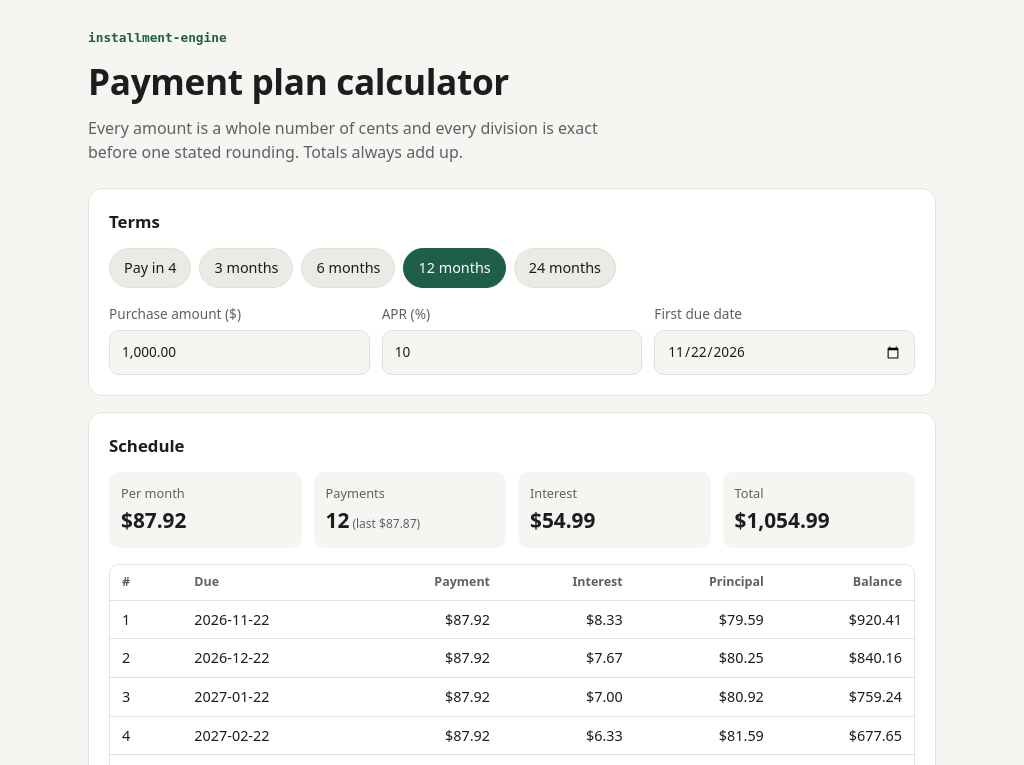
Scenario: calculator UI › refund simulator takes the refund off the last payment and reports cash back
The image size is (1024, 765).
Click the radio button labelled "Pay in 4" at (150, 268), box x1=109 y1=248 x2=192 y2=288
(page scrolled)
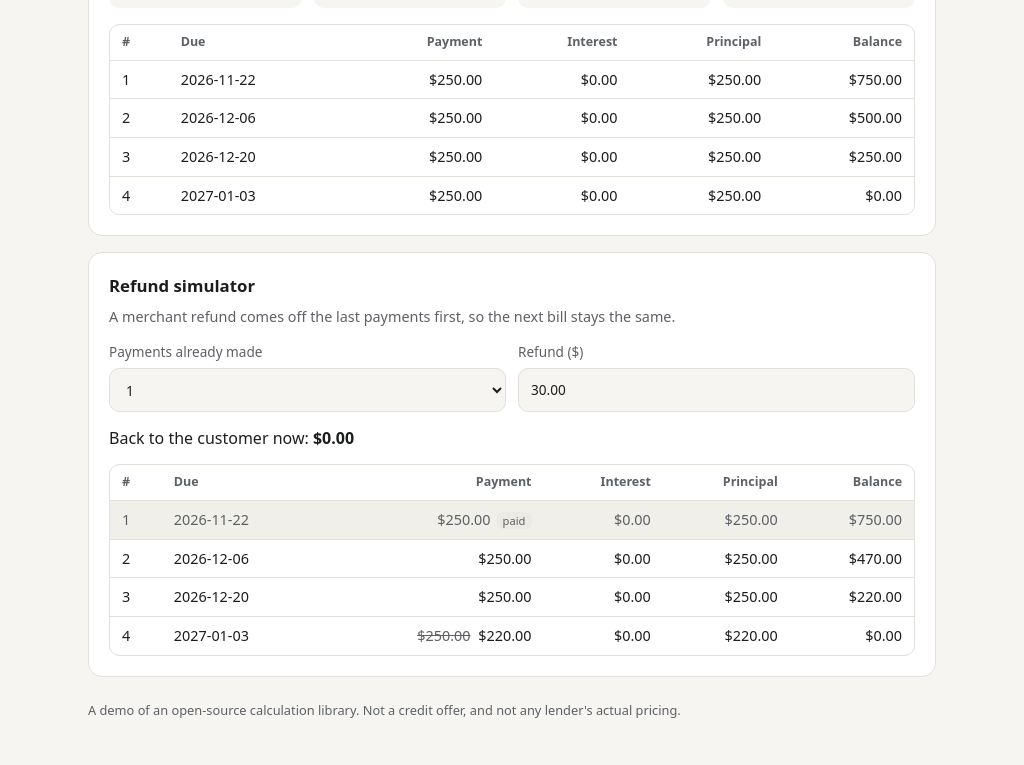
Replace the text in the field labelled "Refund ($)" with "300" at (716, 390), box x1=518 y1=368 x2=915 y2=412
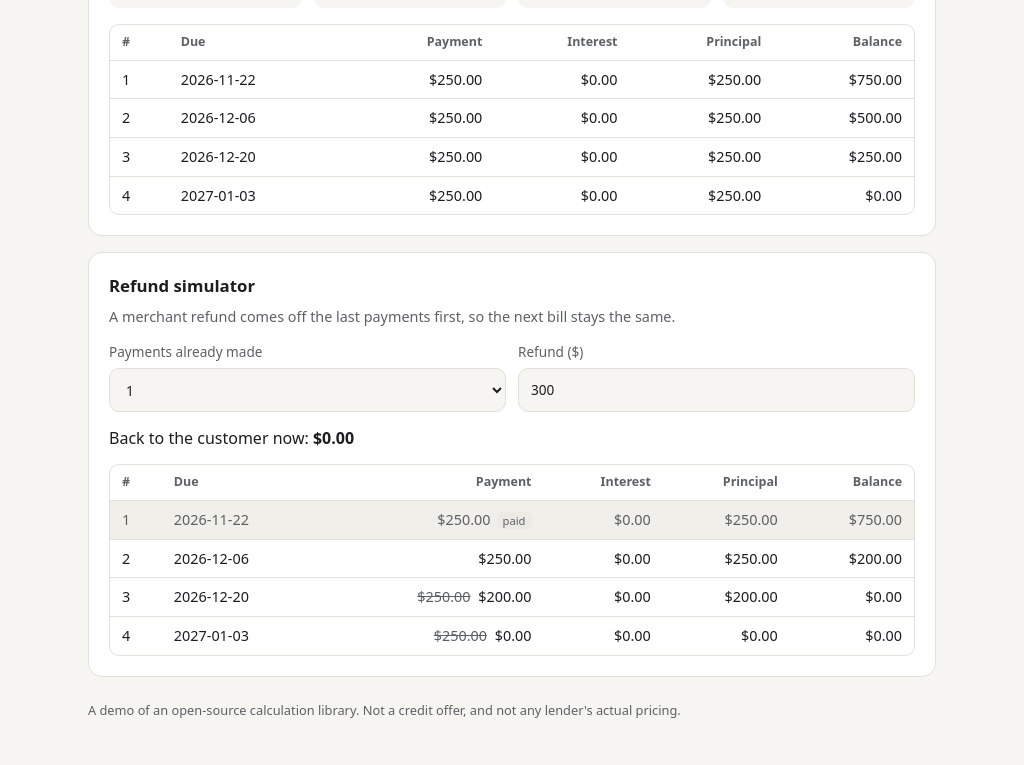
Check: the element with test id "cashback" shows "$0.00", box x1=313 y1=428 x2=354 y2=450
Select "3" in the dropdown labelled "Payments already made" at (308, 390), box x1=109 y1=368 x2=506 y2=412
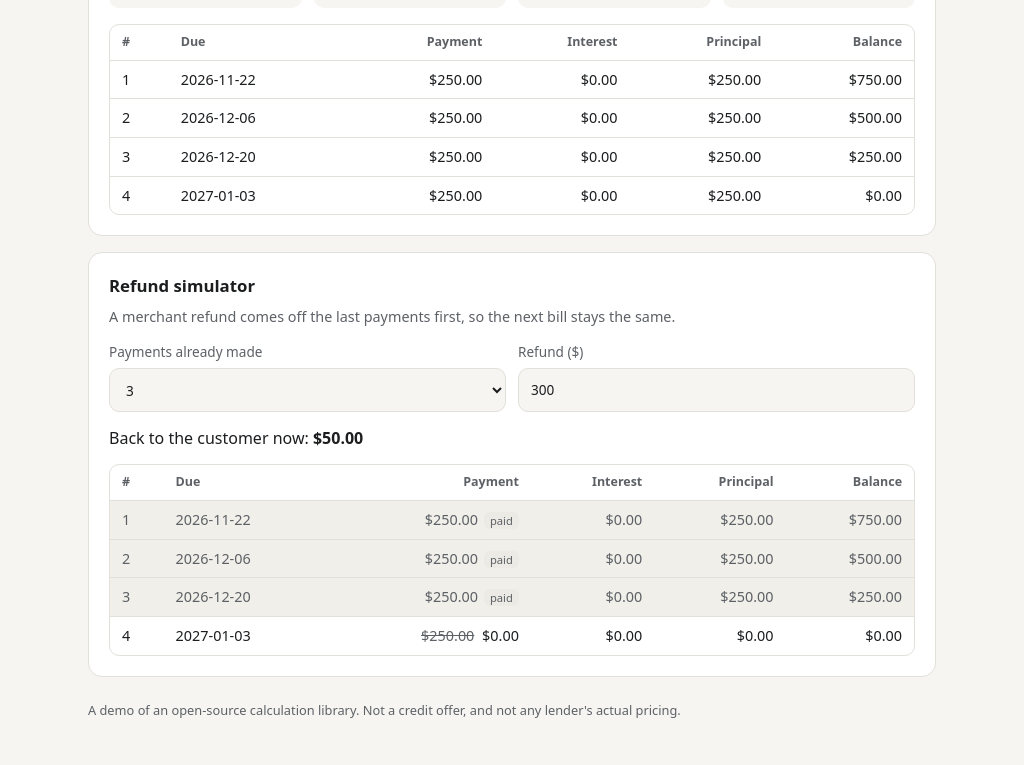
Check: the element with test id "cashback" shows "$50.00", box x1=313 y1=428 x2=363 y2=450
Check: the text "paid" is shown 3 times, box x1=484 y1=512 x2=519 y2=529; x1=484 y1=551 x2=519 y2=568; x1=484 y1=589 x2=519 y2=606
